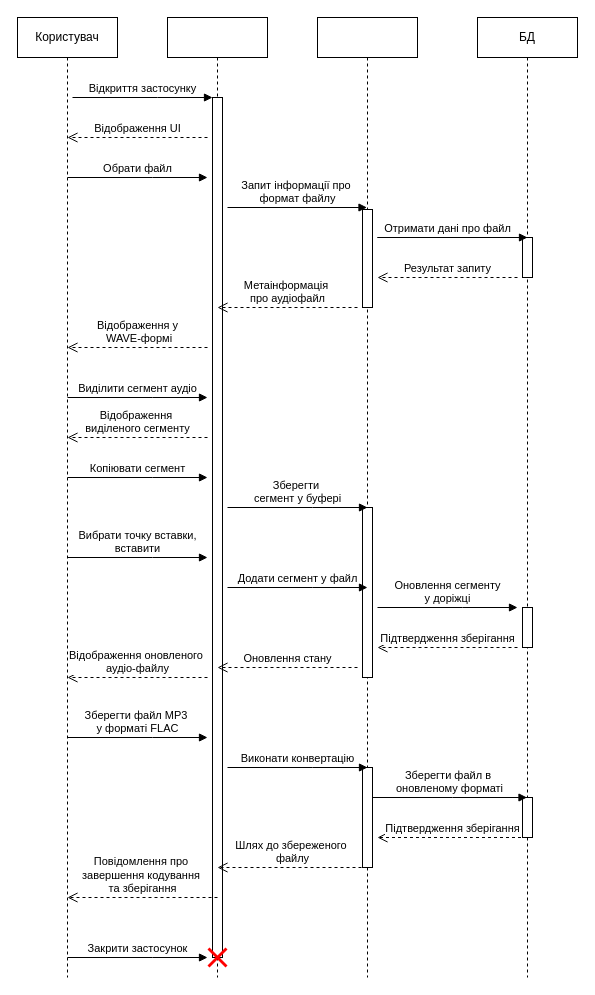
Image size: 595x995. Some labels were removed from this diagram. Each missing label, with the box of its shape:
Застосунок: (166, 16, 268, 978)
Сервер: (316, 16, 418, 978)
